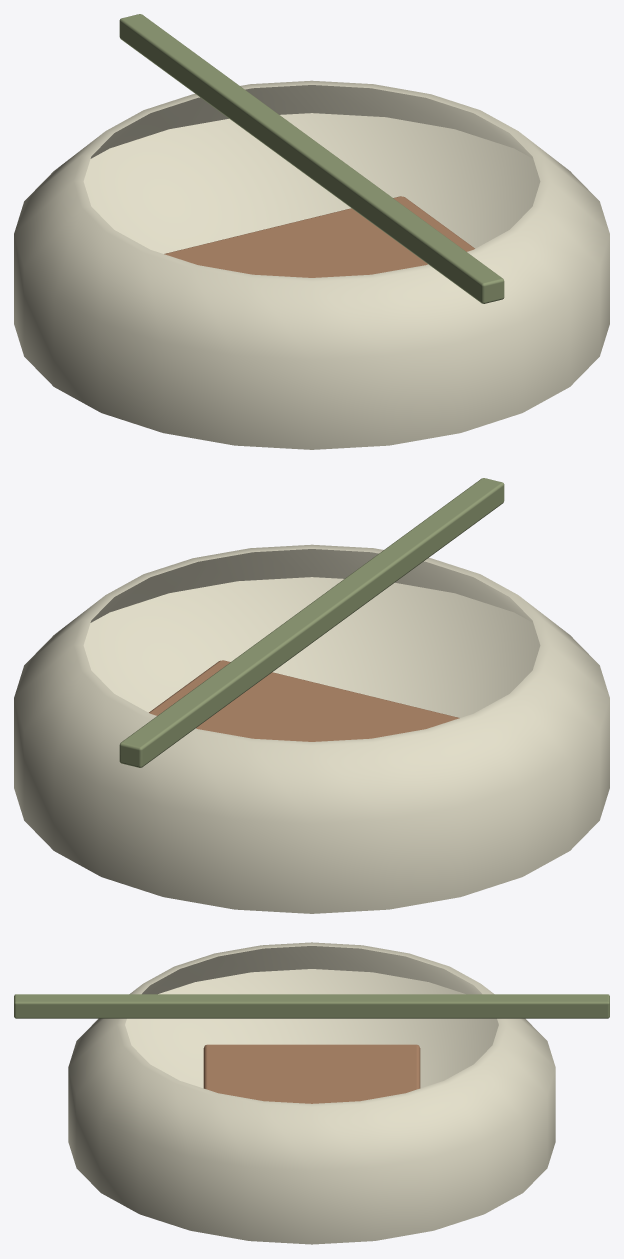
File: PlasterJacket.glb
3 renders of one model, top to bottom at view 1: azimuth 30°, elevation 25°; view 2: azimuth 150°, elevation 25°; view 3: azimuth 270°, elevation 25°, orthographic. The views are drawn at different scales.
Parts seen in each view (by area): view 1: plaster-jacket; view 2: plaster-jacket; view 3: plaster-jacket.
Part boxes in pixels (bbox=[...]): plaster-jacket: bbox=[14, 14, 609, 449]; plaster-jacket: bbox=[14, 478, 609, 913]; plaster-jacket: bbox=[14, 942, 609, 1244].
Bounding box in the file's own units: 0.9 × 0.305 × 1.1.
